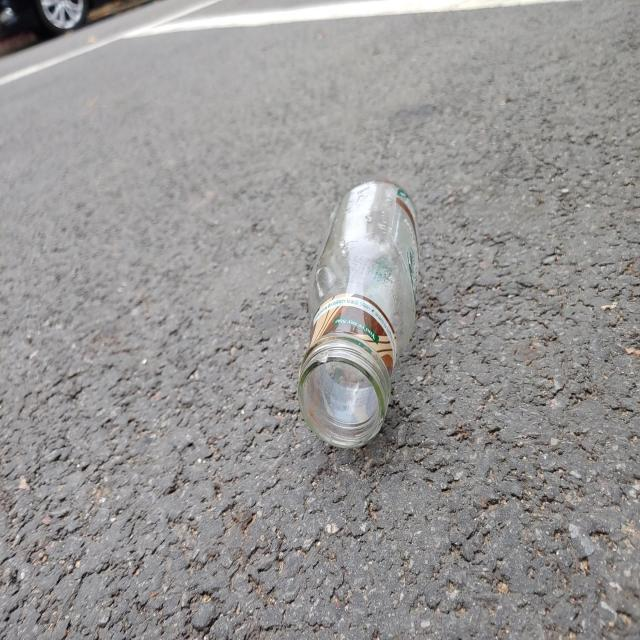glass: (298, 181, 419, 448)
